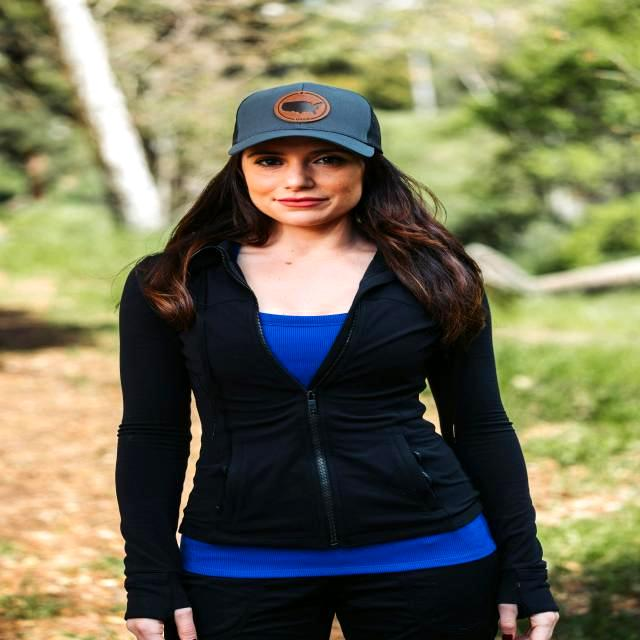no_hard_hat: (228, 83, 382, 157)
person: (116, 83, 558, 640)
